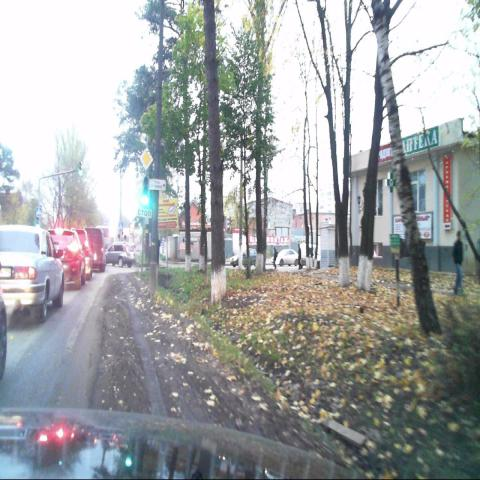2_1: (139, 147, 153, 170)
